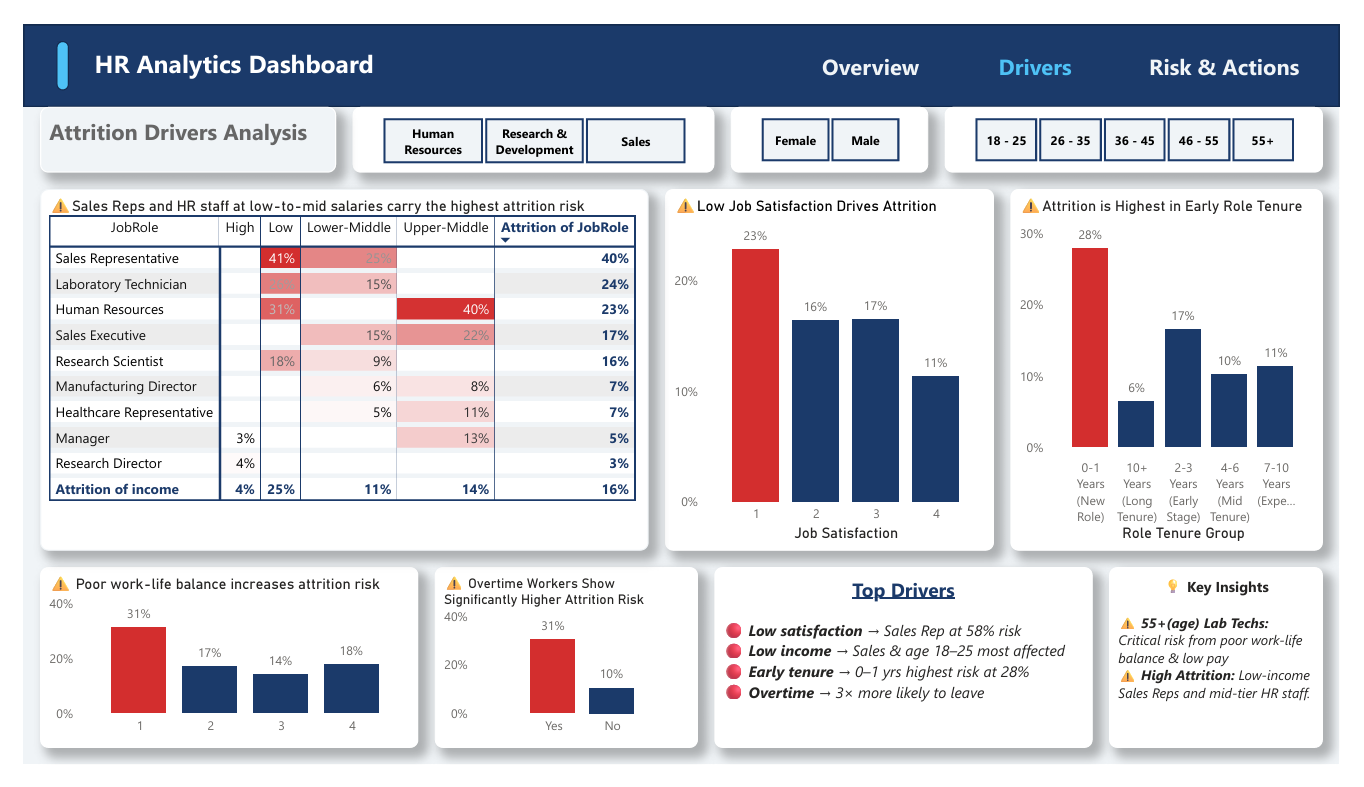

This screenshot's page, from the dashboard's own definition file:
{"tool":"powerbi","page":{"name":"Drivers","canvas":[1280,720],"ordinal":1},"visuals":[{"type":"shape","box":[0,0,1280,80],"z":0},{"type":"textbox","box":[64,16,304,48],"z":1000},{"type":"shape","box":[32,16,12,48],"z":2000},{"type":"actionButton","box":[768,16,112,48],"z":3000},{"type":"actionButton","box":[944,16,80,48],"z":4000},{"type":"actionButton","box":[1088,16,160,48],"z":5000},{"type":"slicer","fields":{"Values":["WA_Fn-UseC_-HR-Employee-Attrition.Department"]},"box":[320,80,352,64],"z":6000},{"type":"slicer","fields":{"Values":["WA_Fn-UseC_-HR-Employee-Attrition.Gender"]},"box":[688,80,192,64],"z":7000},{"type":"slicer","fields":{"Values":["WA_Fn-UseC_-HR-Employee-Attrition.Age_Group"]},"box":[896,80,368,64],"z":8000},{"type":"columnChart","title":"⚠️Low Job Satisfaction Drives Attrition","fields":{"Category":["WA_Fn-UseC_-HR-Employee-Attrition.JobSatisfaction"],"Y":["_All Measures.Attrition Rate"]},"box":[624,160,320,352],"z":9000},{"type":"columnChart","title":"⚠️ Poor work-life balance increases attrition risk","fields":{"Category":["WA_Fn-UseC_-HR-Employee-Attrition.WorkLifeBalance"],"Y":["_All Measures.Attrition Rate"]},"box":[16,528,368,176],"z":10000},{"type":"columnChart","title":"⚠️ Overtime Workers Show Significantly Higher Attrition Risk","fields":{"Category":["WA_Fn-UseC_-HR-Employee-Attrition.OverTime"],"Y":["_All Measures.Attrition Rate"]},"box":[400,528,256,176],"z":11000},{"type":"columnChart","title":"⚠️Attrition is Highest in Early Role Tenure","fields":{"Y":["_All Measures.Attrition Rate"],"Category":["WA_Fn-UseC_-HR-Employee-Attrition.Role Tenure Group"]},"box":[960,160,304,352],"z":12000},{"type":"textbox","box":[672,528,368,176],"z":13000},{"type":"textbox","box":[16,80,288,64],"z":14000},{"type":"pivotTable","title":"⚠️Sales Reps and HR staff at low-to-mid salaries carry the highest attrition risk                                  ","fields":{"Rows":["WA_Fn-UseC_-HR-Employee-Attrition.JobRole"],"Columns":["WA_Fn-UseC_-HR-Employee-Attrition.Income Band"],"Values":["_All Measures.Attrition Rate"]},"box":[16,160,592,352],"z":15000},{"type":"textbox","box":[1056,528,208,176],"z":16000}]}

Visuals, with their boxes in screenshot pixels (x1, y1, x2, y2), scaled from the page's 1280x720 canvas onto the 1364x787 screenshot:
shape: 0 0 1363 87
textbox: 68 17 392 70
shape: 34 17 47 70
actionButton: 818 17 938 70
actionButton: 1006 17 1091 70
actionButton: 1159 17 1330 70
slicer - WA_Fn-UseC_-HR-Employee-Attrition.Department: 341 87 716 157
slicer - WA_Fn-UseC_-HR-Employee-Attrition.Gender: 733 87 938 157
slicer - WA_Fn-UseC_-HR-Employee-Attrition.Age_Group: 955 87 1347 157
"⚠️Low Job Satisfaction Drives Attrition" columnChart: 665 175 1006 560
"⚠️ Poor work-life balance increases attrition risk" columnChart: 17 577 409 770
"⚠️ Overtime Workers Show Significantly Higher Attrition Risk" columnChart: 426 577 699 770
"⚠️Attrition is Highest in Early Role Tenure" columnChart: 1023 175 1347 560
textbox: 716 577 1108 770
textbox: 17 87 324 157
"⚠️Sales Reps and HR staff at low-to-mid salaries carry the highest attrition risk                                  " pivotTable: 17 175 648 560
textbox: 1125 577 1347 770
